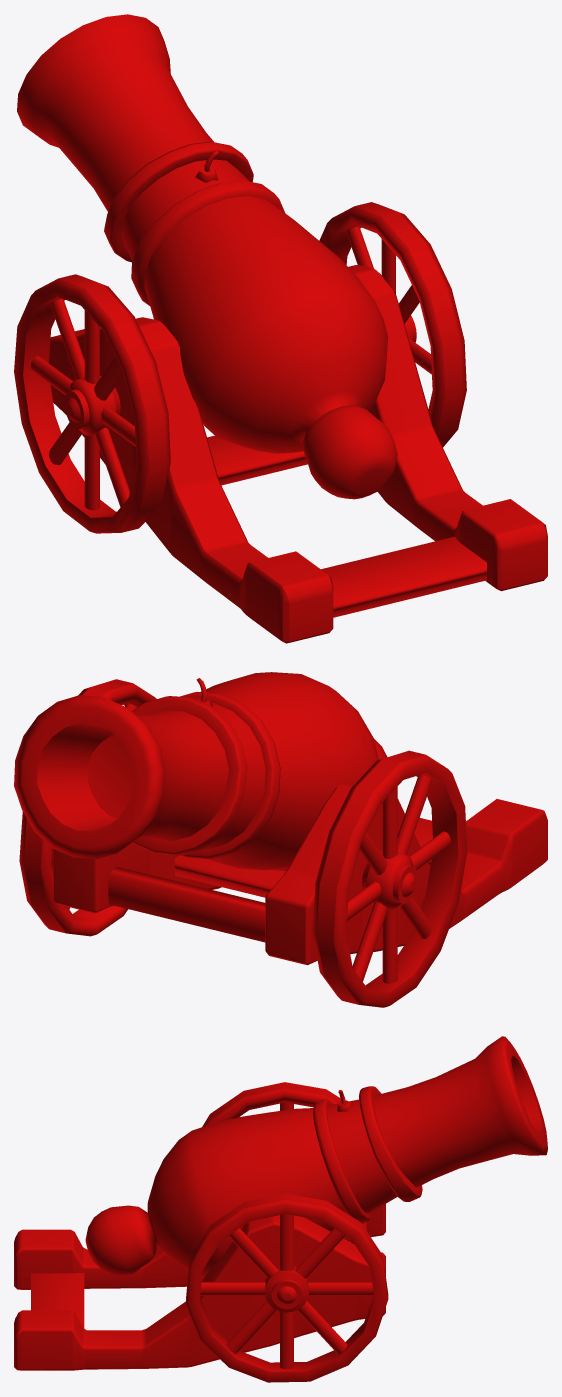
File: cannon_final_FINAL.fbx
3 views of the same model, one above another, from view 1: azimuth 30°, elevation 25°; view 2: azimuth 150°, elevation 25°; view 3: azimuth 270°, elevation 25° (orthographic). The views are drawn at different scales.
Parts seen in each view (by area): view 1: cannon_GEO_mb_01; view 2: cannon_GEO_mb_01; view 3: cannon_GEO_mb_01.
Part boxes in pixels (x1,y1,x2,y2): cannon_GEO_mb_01: (14, 14, 547, 643); cannon_GEO_mb_01: (14, 672, 547, 1007); cannon_GEO_mb_01: (14, 1036, 547, 1382).
Size of the model in its own units: 103 by 106 by 181.
